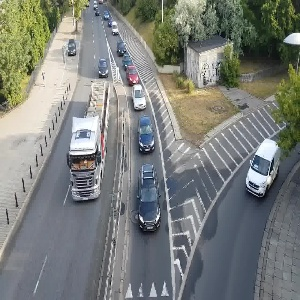car: (136, 111, 163, 156)
semi: (66, 78, 113, 214)
suv: (133, 159, 165, 236)
van: (243, 138, 288, 202)
